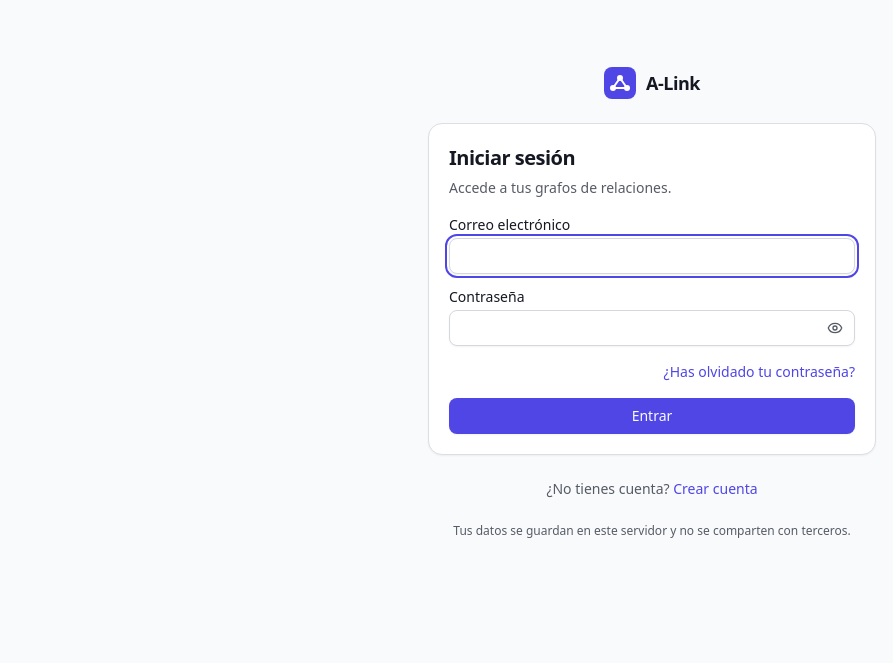
Scenario: LoginPage › credenciales incorrectas: muestra el mensaje del servidor y se queda en la página
Type "ana@example.test" into the field labelled "Correo electrónico" at point(652, 256), box [449, 238, 855, 274]
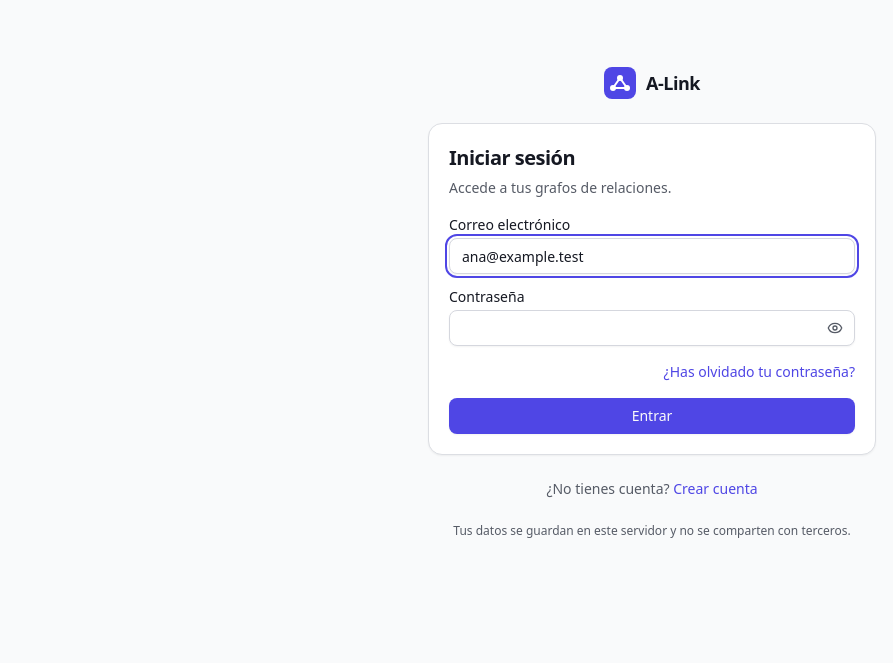
Type "mala-clave-123" into the password field labelled "Contraseña" at point(652, 328), box [449, 310, 855, 346]
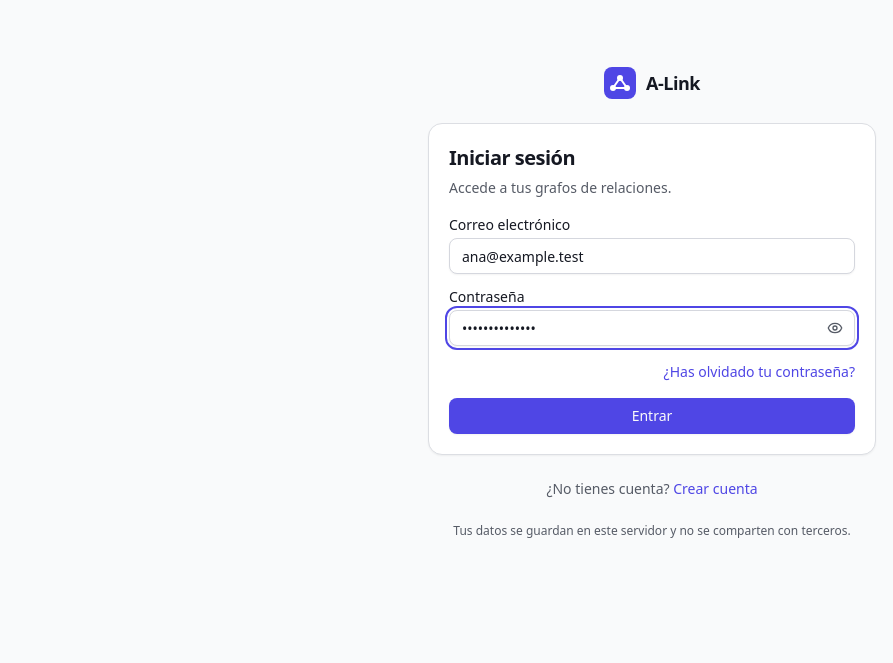
Click the button "Entrar" at point(652, 416), box [449, 398, 855, 434]
(page scrolled)
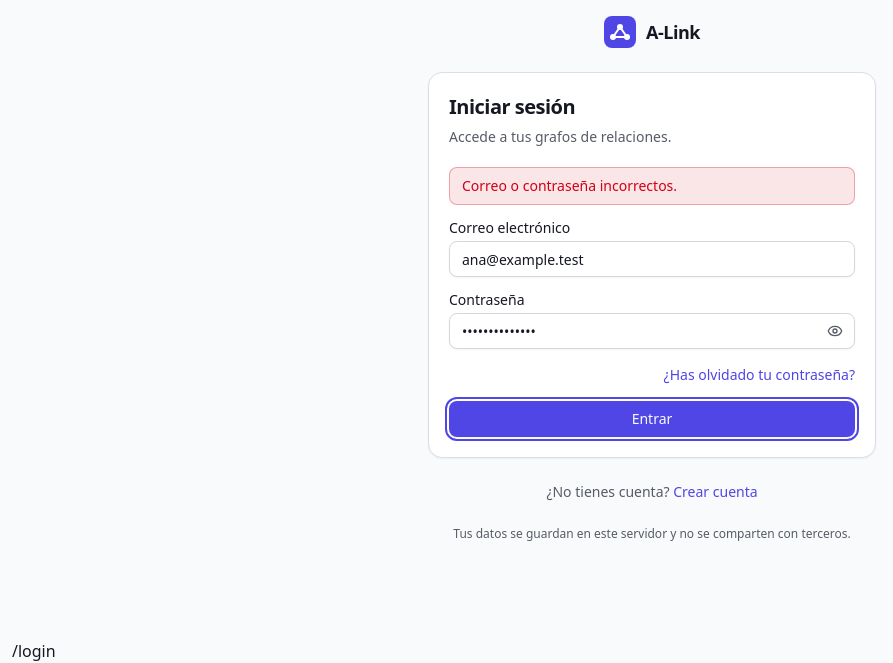
Expected: the text with test id "location" reads "/login", [12, 640, 56, 662]
Now the text "Correo o contraseña incorrectos." is shown, box [449, 167, 855, 205]
